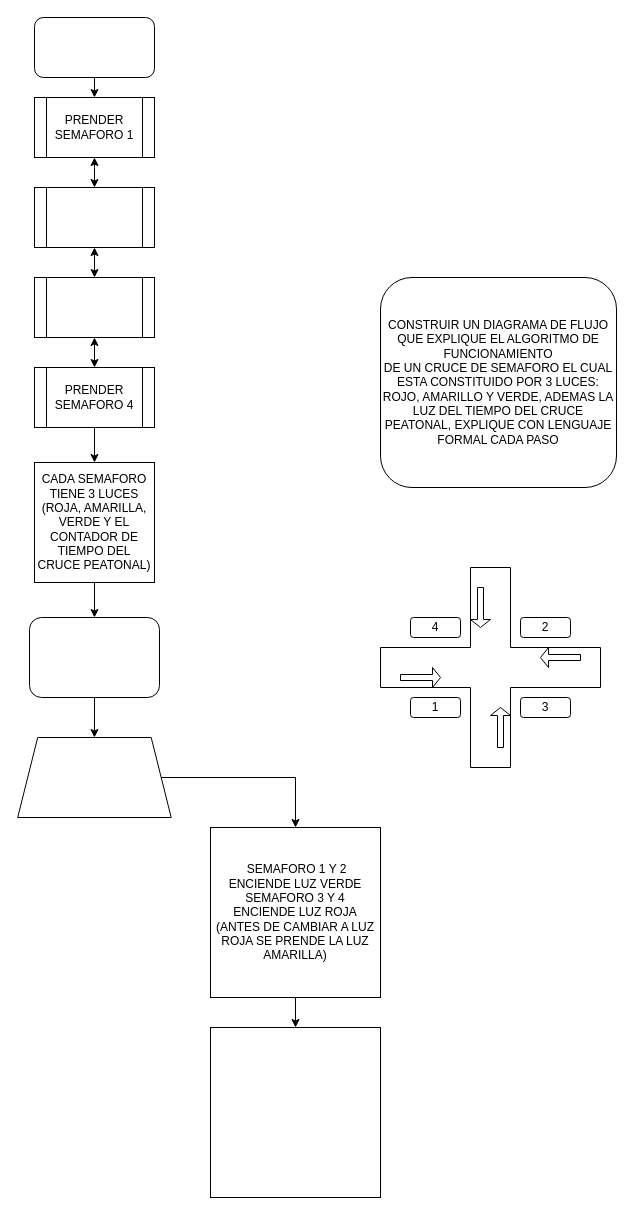
This 634x1215 diagram has some shape labels left out. Each missing label, with the centre of its shape:
"DURACION DE LAS LUCES: ROJA = 30 AMARILLA = 3 VERDE = 27" goes at (94,657).
"INICIO" goes at (94,47).
"PRENDER SEMAFORO 2" goes at (94,217).
"PRENDER SEMAFORO 3" goes at (94,307).
"UNA VEZ ENCENDIDOS LOS 4 SEMAFOROS HACER" goes at (94,777).
